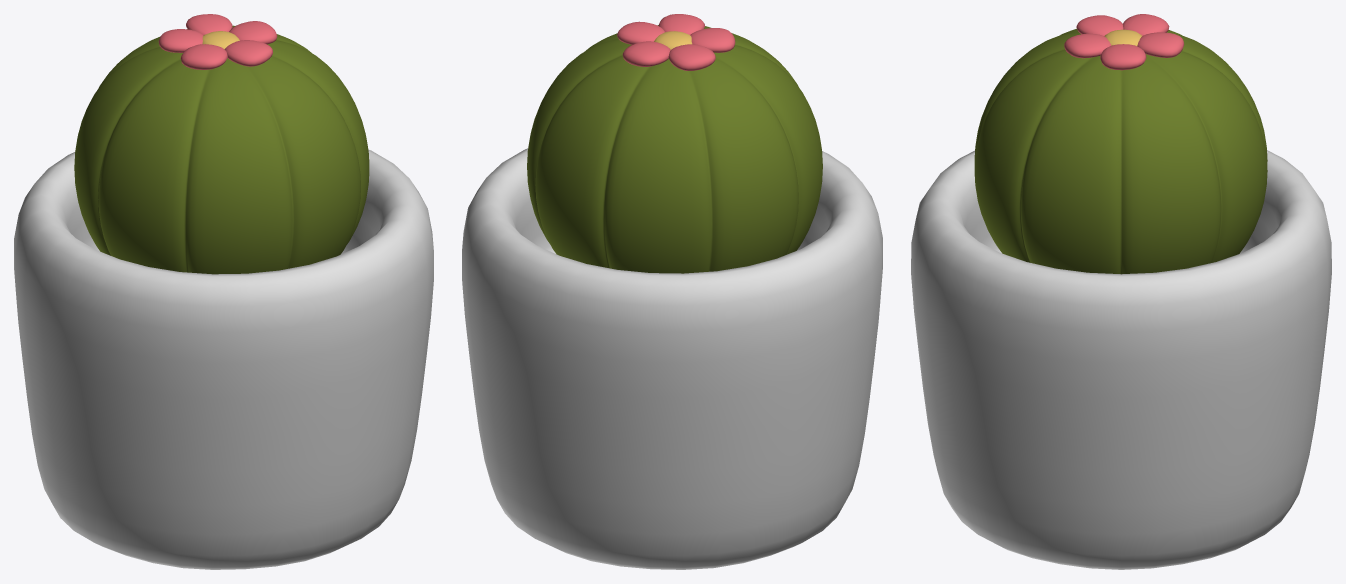
The model's file is cactus.glb.
The picture shows the model from 3 angles, left to right: view 1: azimuth 30°, elevation 25°; view 2: azimuth 150°, elevation 25°; view 3: azimuth 270°, elevation 25°; orthographic projection.
Visible parts, largest first — view 1: cactus; view 2: cactus; view 3: cactus.
Boxes of the visible parts, left/top/right/bottom form: cactus: left=14, top=14, right=433, bottom=569; cactus: left=462, top=14, right=882, bottom=569; cactus: left=911, top=14, right=1331, bottom=569.
Size of the model in its own units: 0.1954 by 0.2409 by 0.1954.
